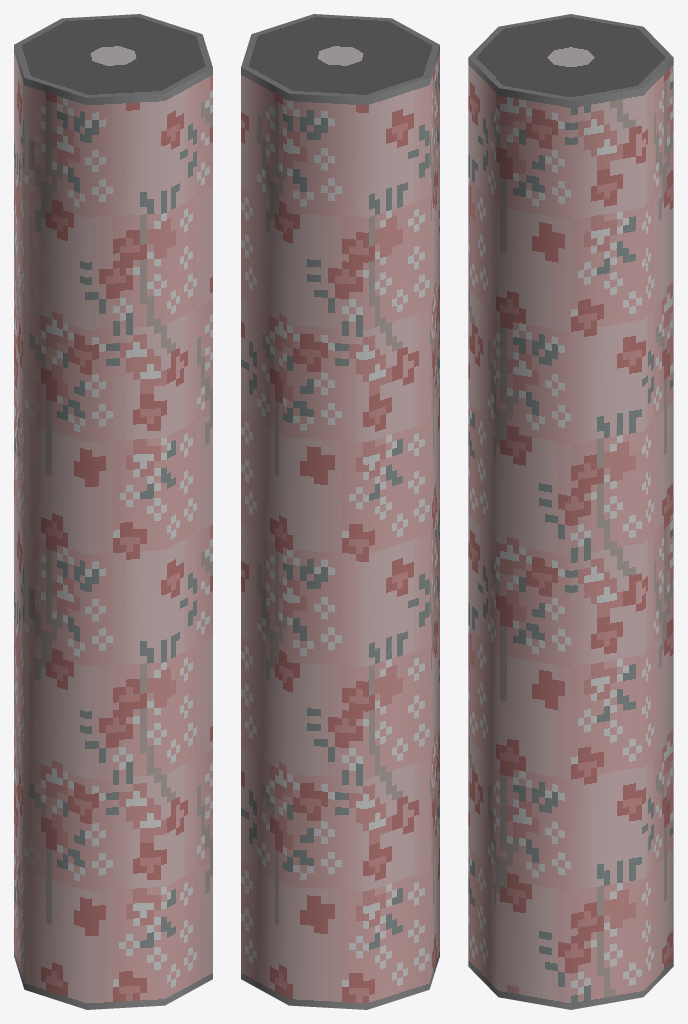
File: 042a_Kaleidoscope.glb
3 renders of one model, left to right at view 1: azimuth 30°, elevation 25°; view 2: azimuth 150°, elevation 25°; view 3: azimuth 270°, elevation 25°, orthographic.
Parts seen in each view (by area): view 1: part_0; view 2: part_0; view 3: part_0.
Boxes of the visible parts, x1=… form: part_0: x1=14, y1=14, x2=212, y2=1009; part_0: x1=241, y1=14, x2=439, y2=1009; part_0: x1=468, y1=14, x2=673, y2=1009.
Size of the model in its own units: 0.045 by 0.22 by 0.045.
1 material, 1 textured.
